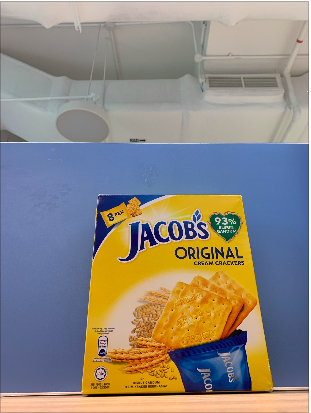Crackers_200-299g: (93, 197, 264, 384)
